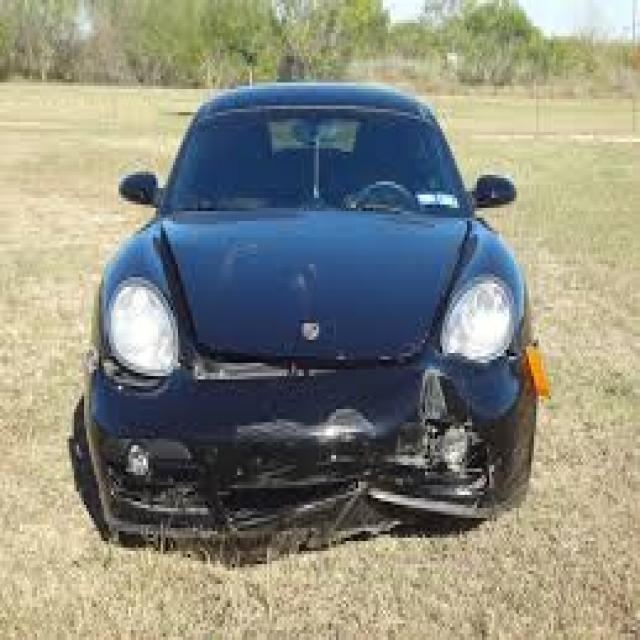moderate: (86, 360, 565, 548)
